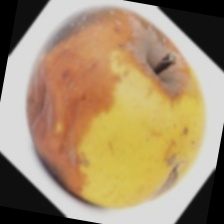apple: (45, 42, 212, 182)
